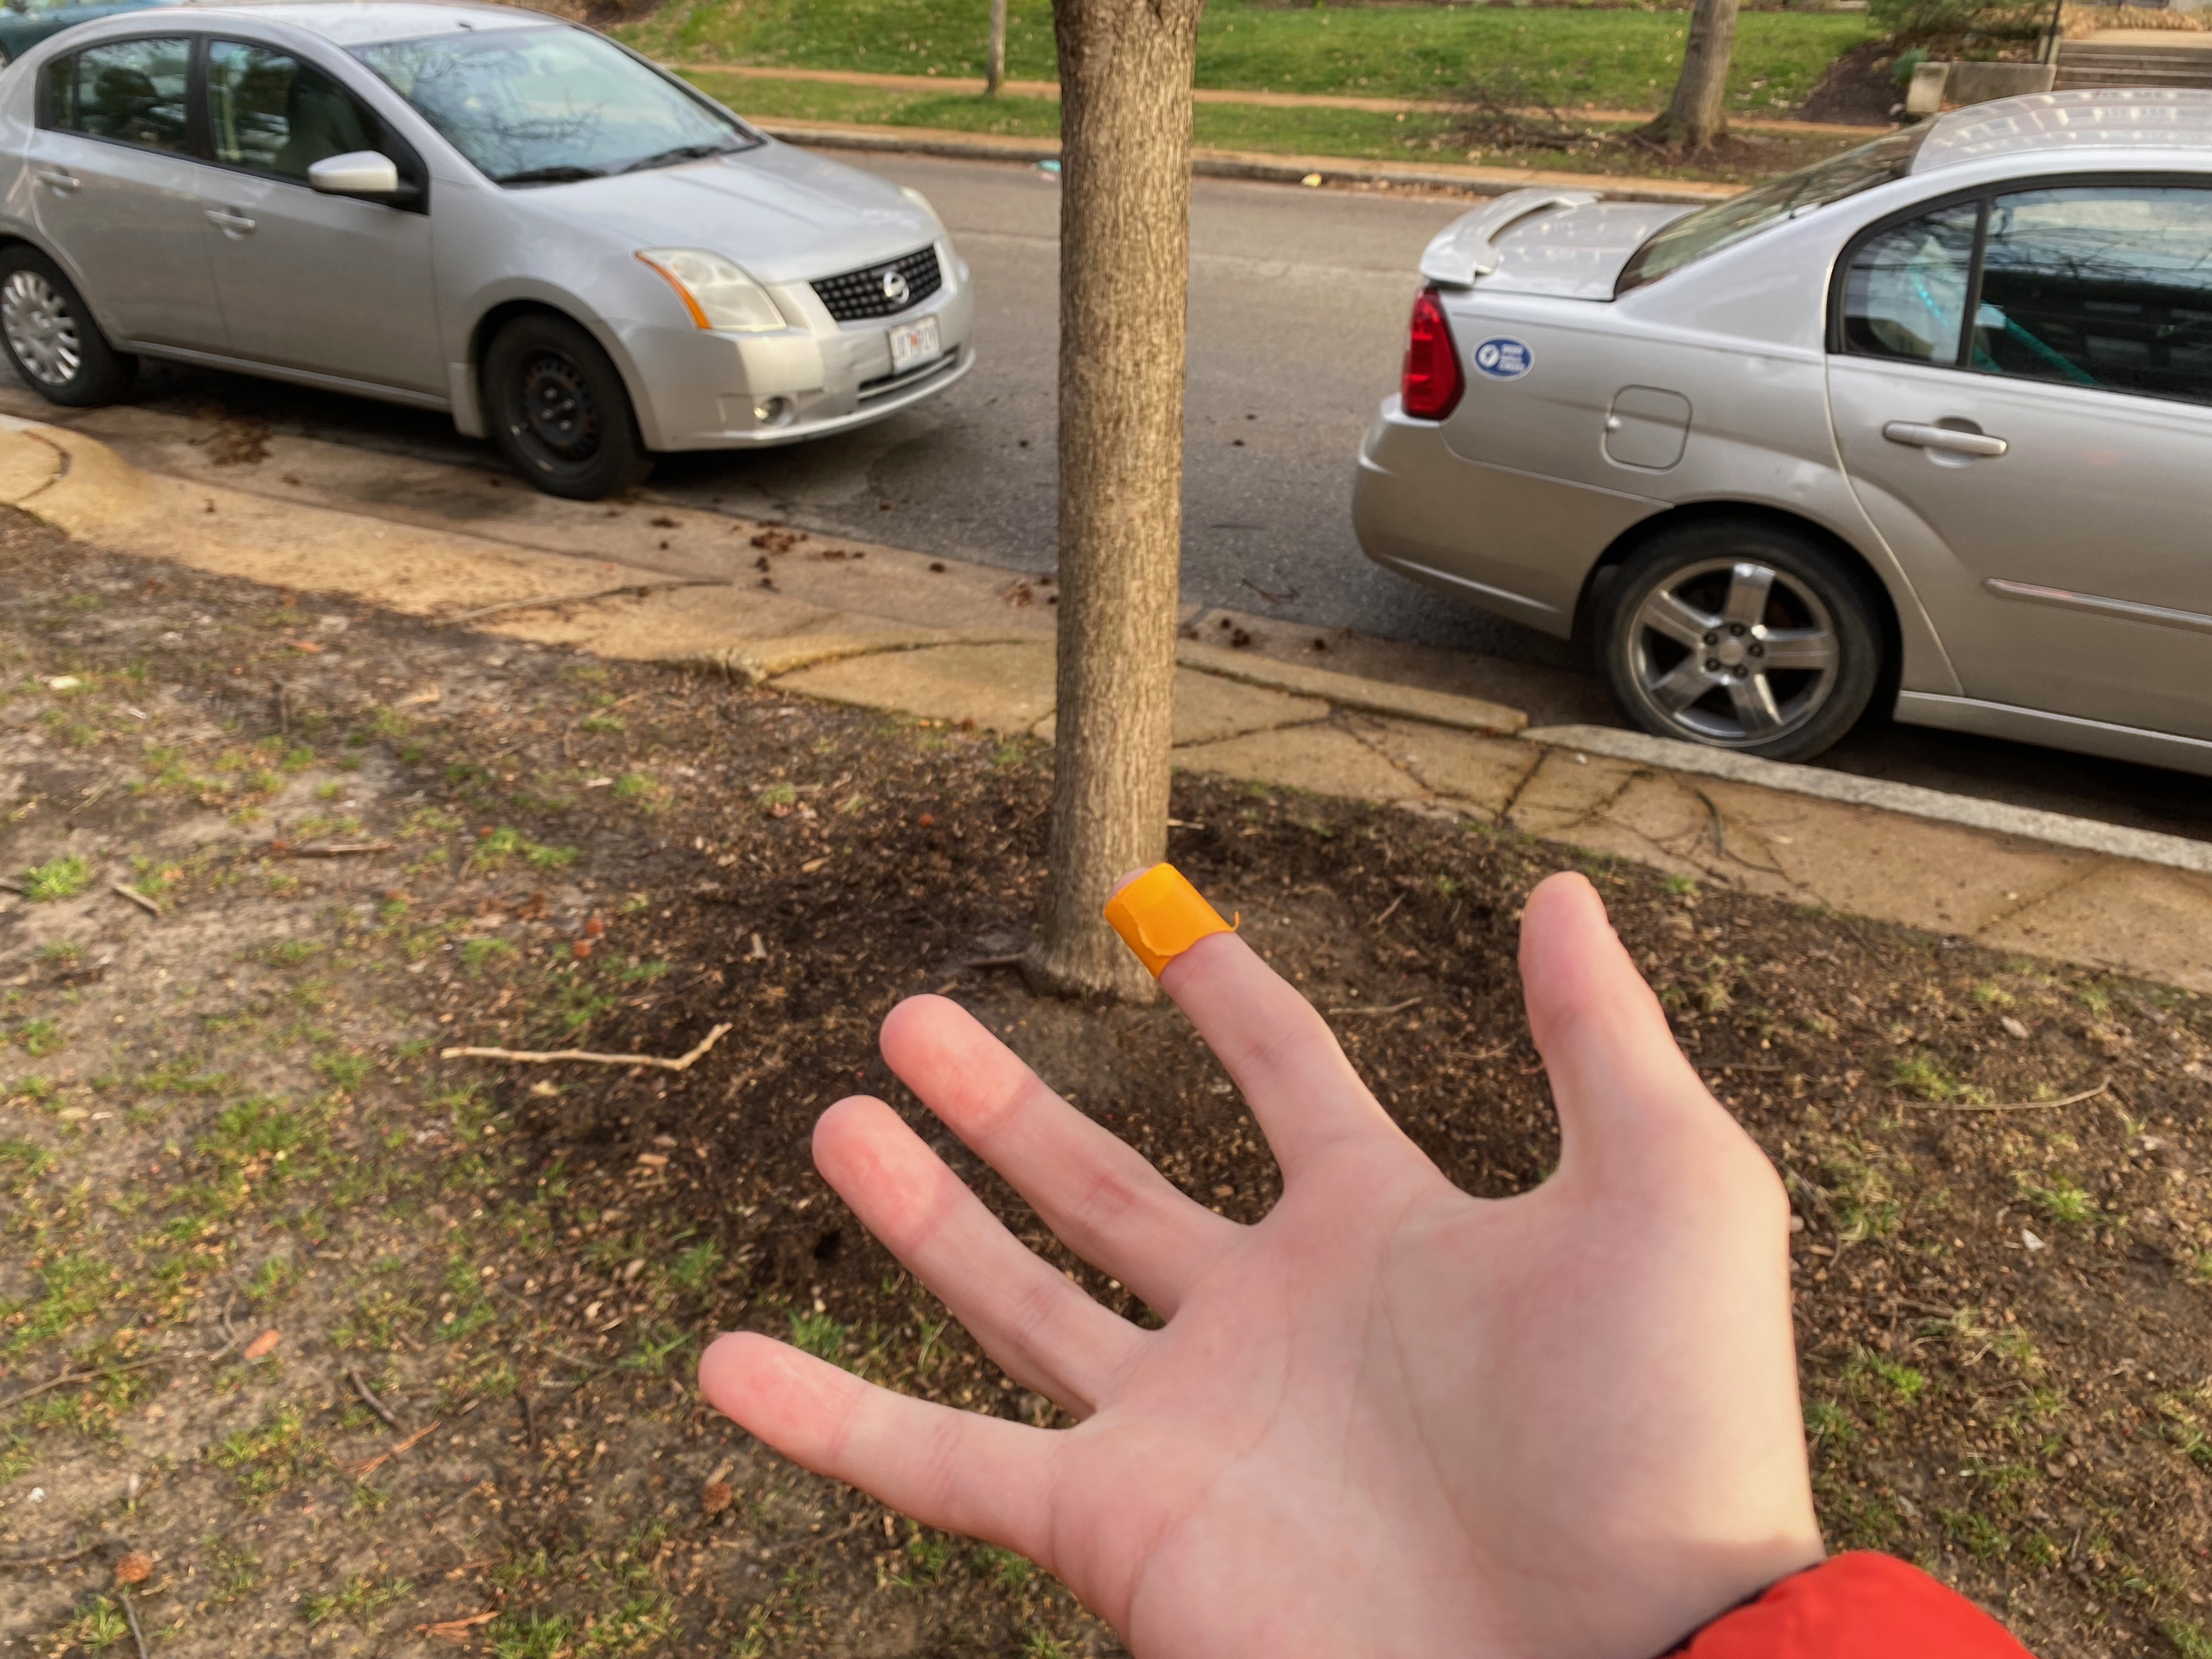fingertip: (1052, 849, 1301, 1016)
